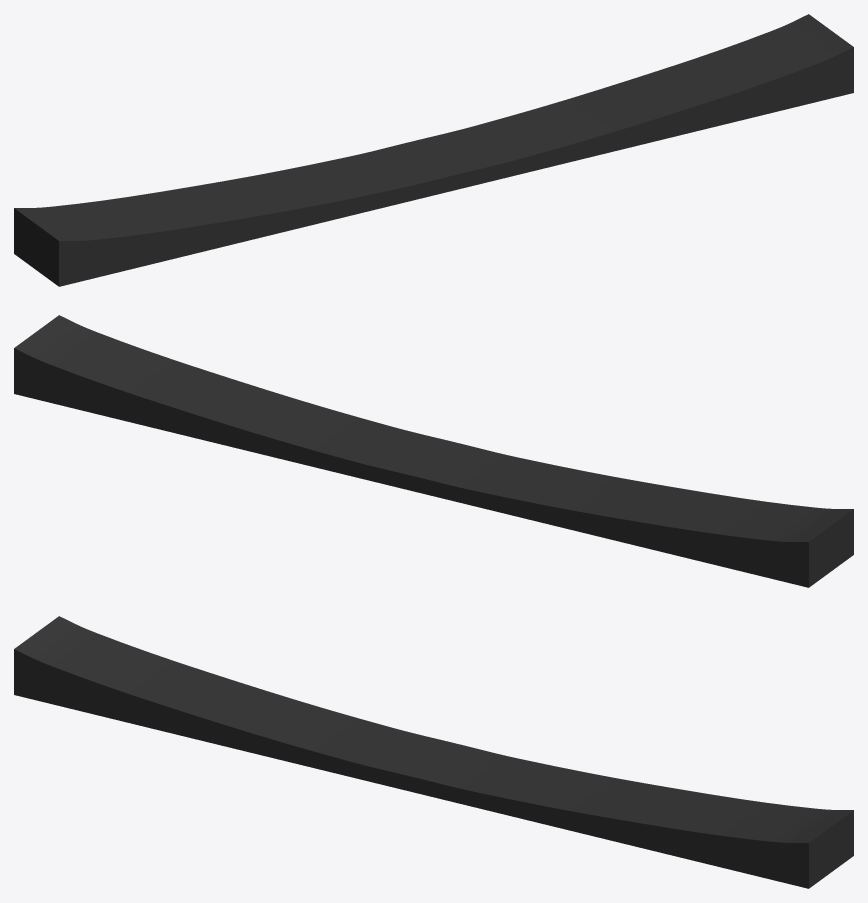
File: skatepark 8 rail.fbx
The picture shows the model from 3 angles, top to bottom: view 1: azimuth 30°, elevation 25°; view 2: azimuth 150°, elevation 25°; view 3: azimuth 330°, elevation 25°; orthographic projection.
Visible parts, largest first — view 1: rail 8; view 2: rail 8; view 3: rail 8.
Boxes of the visible parts, x1,y1,x2,y2 form: rail 8: (14,14,853,286); rail 8: (14,315,853,587); rail 8: (14,616,853,888).
Bounding box in the file's own units: 54.45 × 3 × 5.36.
